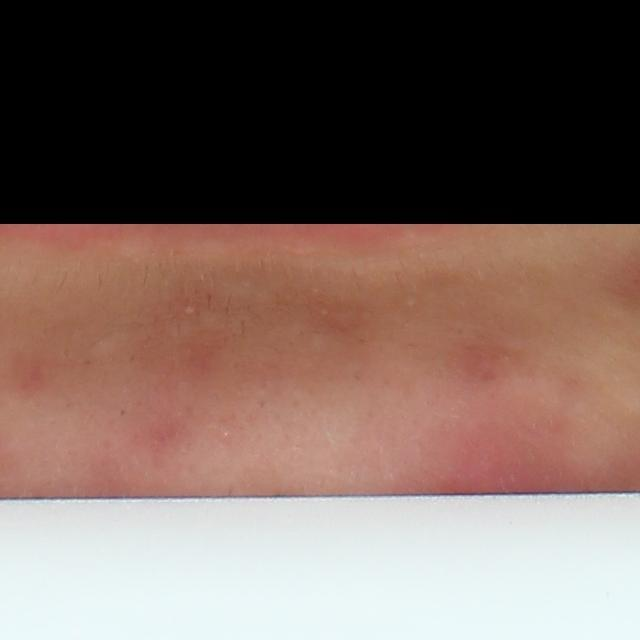comedo: (183, 304, 197, 317)
